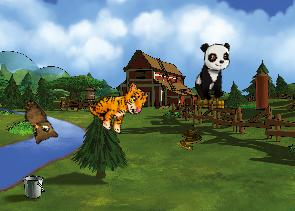owl: (10, 97, 62, 150)
panda: (193, 40, 232, 103)
tiger: (84, 70, 152, 140)
